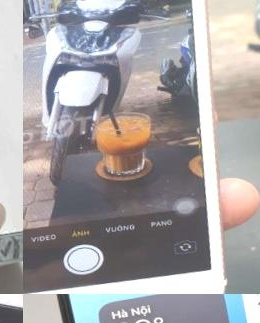scratch: (0, 201, 23, 285)
